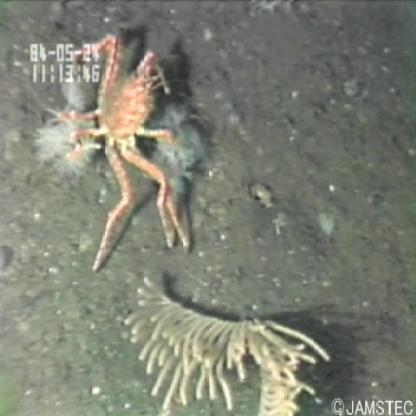Bio: (27, 24, 198, 278), (113, 270, 335, 416)
